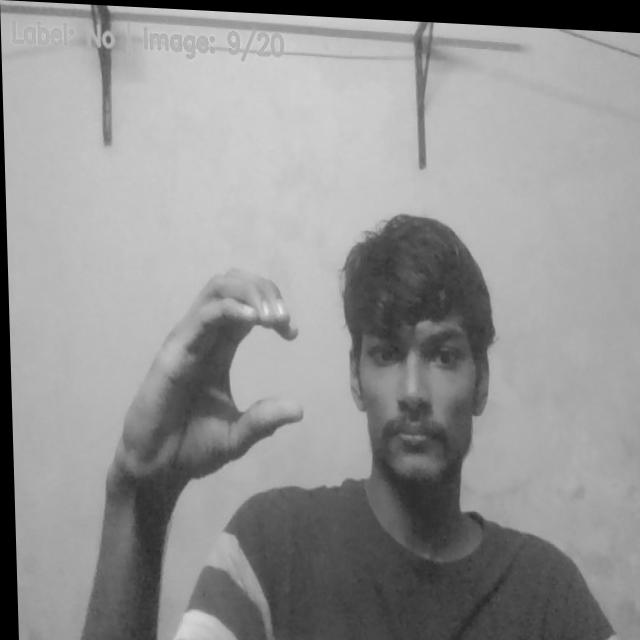No: (109, 261, 308, 497)
